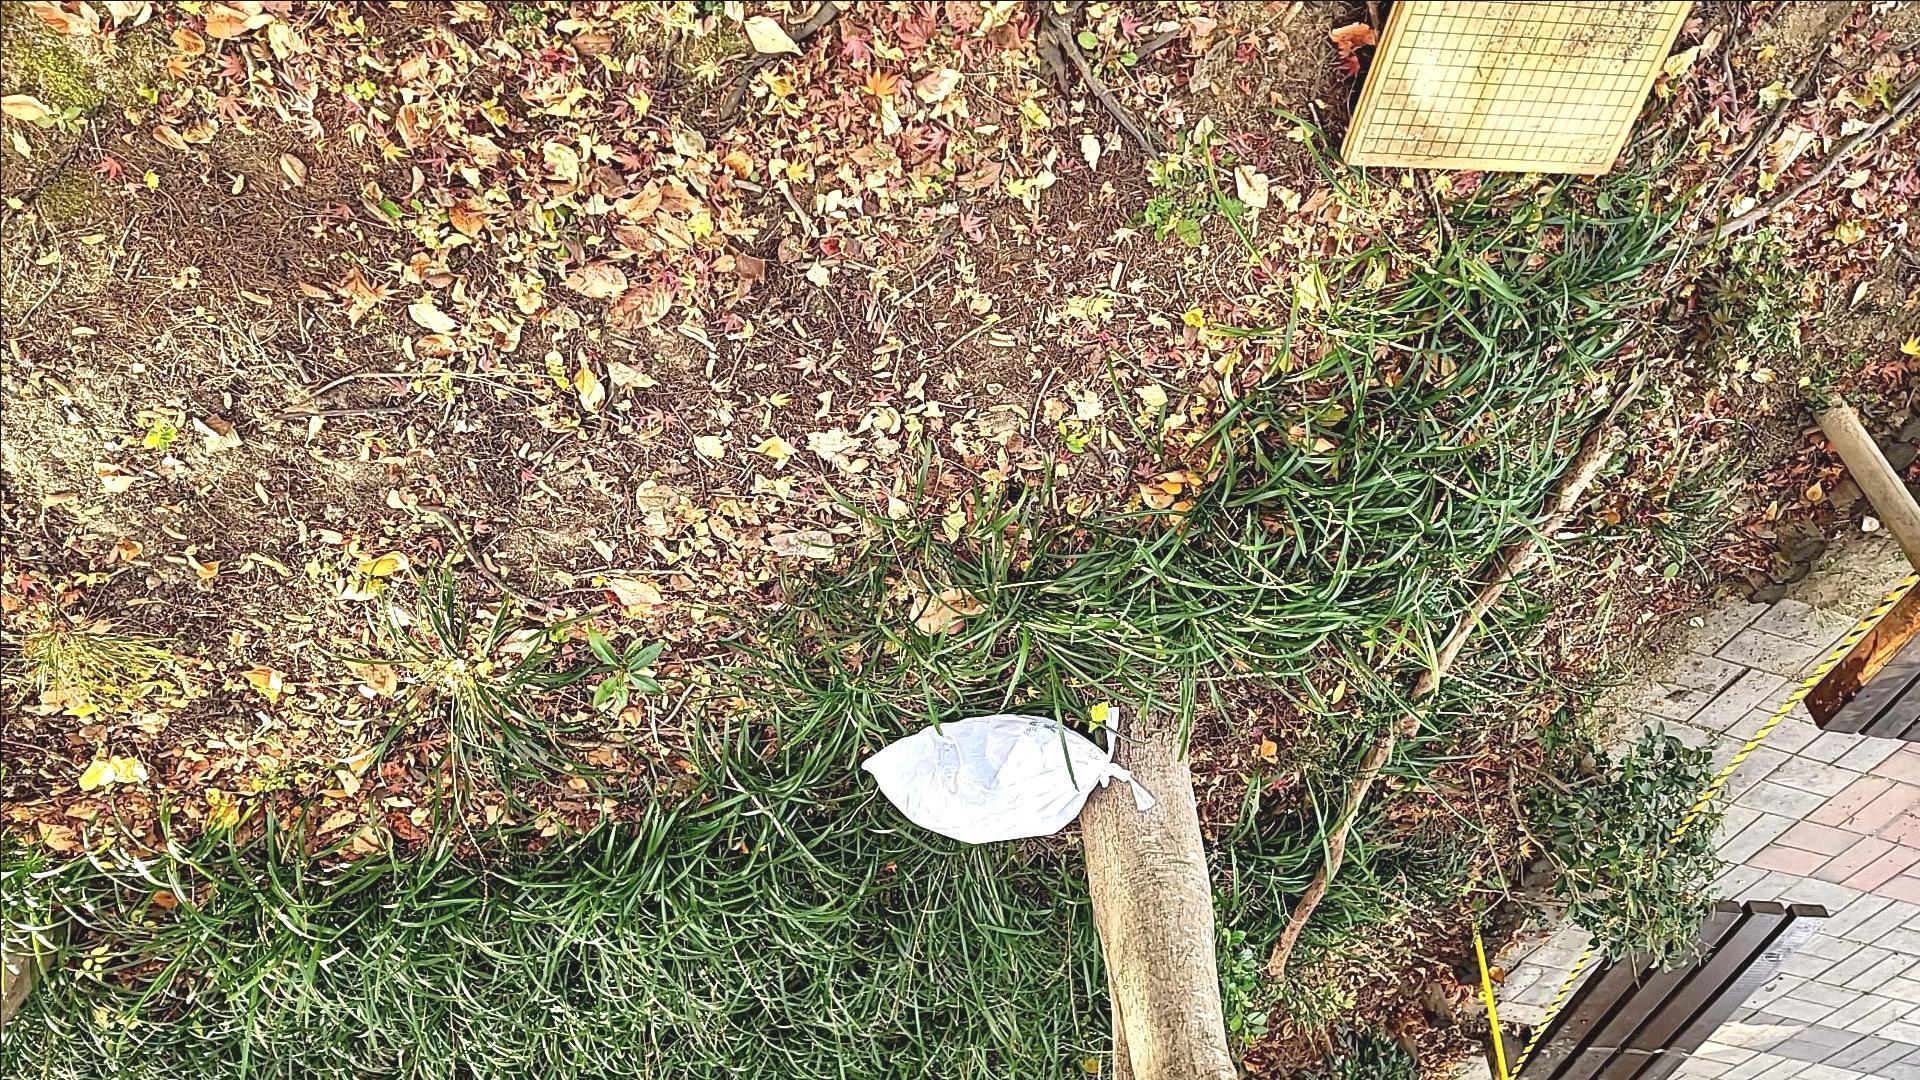white_bag: (857, 698, 1166, 856)
